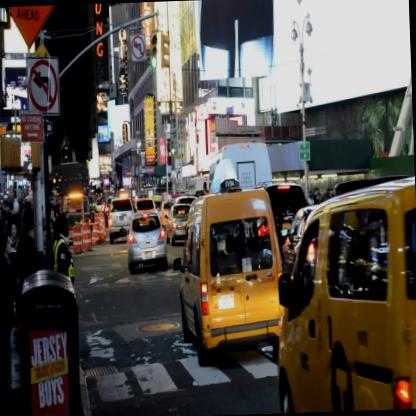car: (271, 175, 415, 413), (178, 190, 288, 366), (126, 209, 168, 274), (107, 197, 136, 244), (164, 204, 192, 248)
